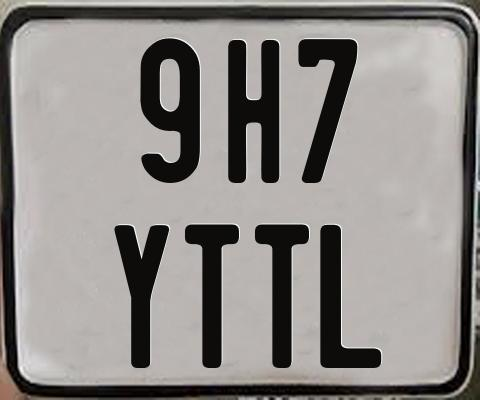7: (298, 37, 362, 184)
9: (137, 36, 203, 187)
H: (225, 37, 279, 184)
L: (317, 223, 382, 368)
T: (183, 223, 242, 373), (255, 224, 310, 368)
Y: (114, 225, 173, 373)
